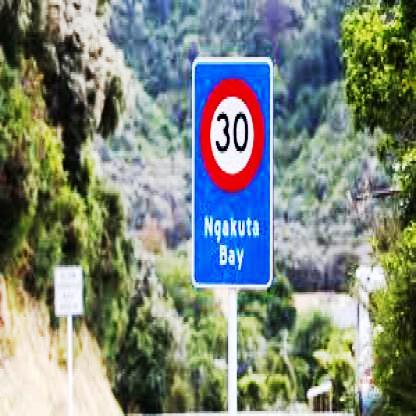Speed Limit -30-: (202, 83, 273, 192)
